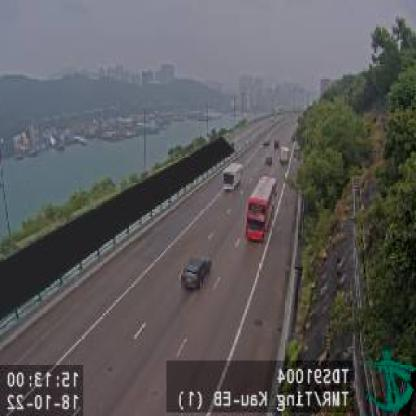Bus: (245, 178, 274, 242)
Car: (182, 256, 212, 292)
Truck: (222, 162, 242, 193), (278, 145, 290, 166)
